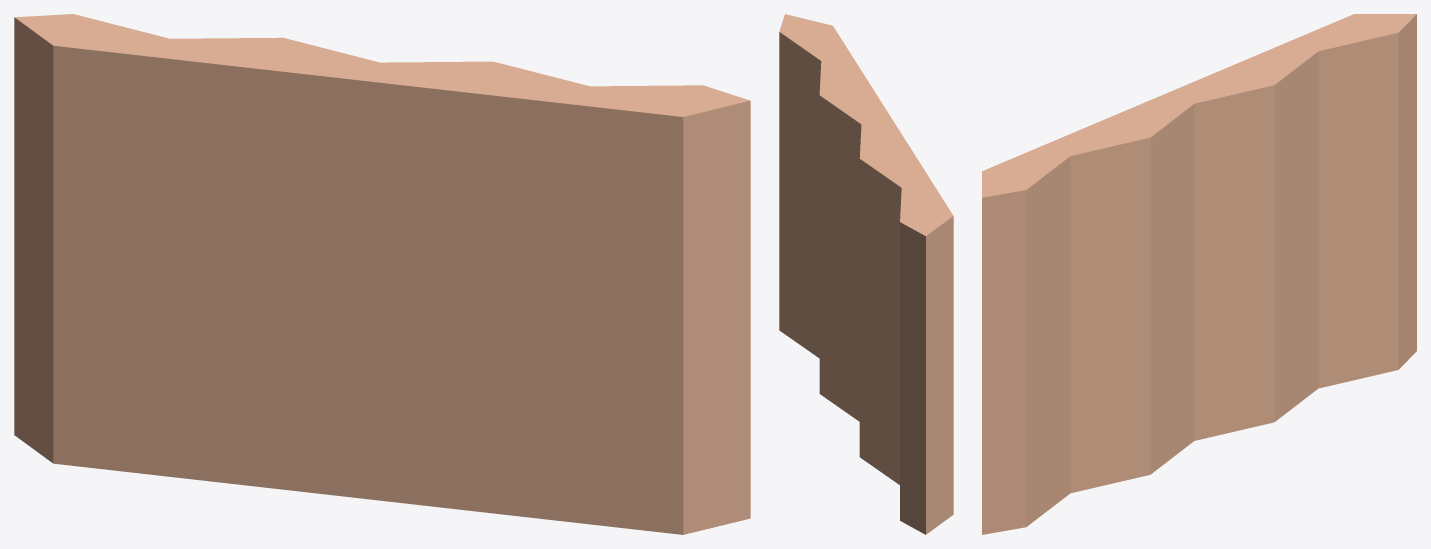
File: cliff_diagonal_rock.glb
3 renders of one model, left to right at view 1: azimuth 30°, elevation 25°; view 2: azimuth 150°, elevation 25°; view 3: azimuth 270°, elevation 25°, orthographic. The views are drawn at different scales.
Parts seen in each view (by area): view 1: cliff_diagonal_rock; view 2: cliff_diagonal_rock; view 3: cliff_diagonal_rock.
Part boxes in pixels (box(x1,y1,x2,y2)): cliff_diagonal_rock: box(14, 14, 750, 534); cliff_diagonal_rock: box(779, 14, 953, 534); cliff_diagonal_rock: box(982, 14, 1416, 534).
Bounding box in the file's own units: 1.17 × 1 × 1.17.
